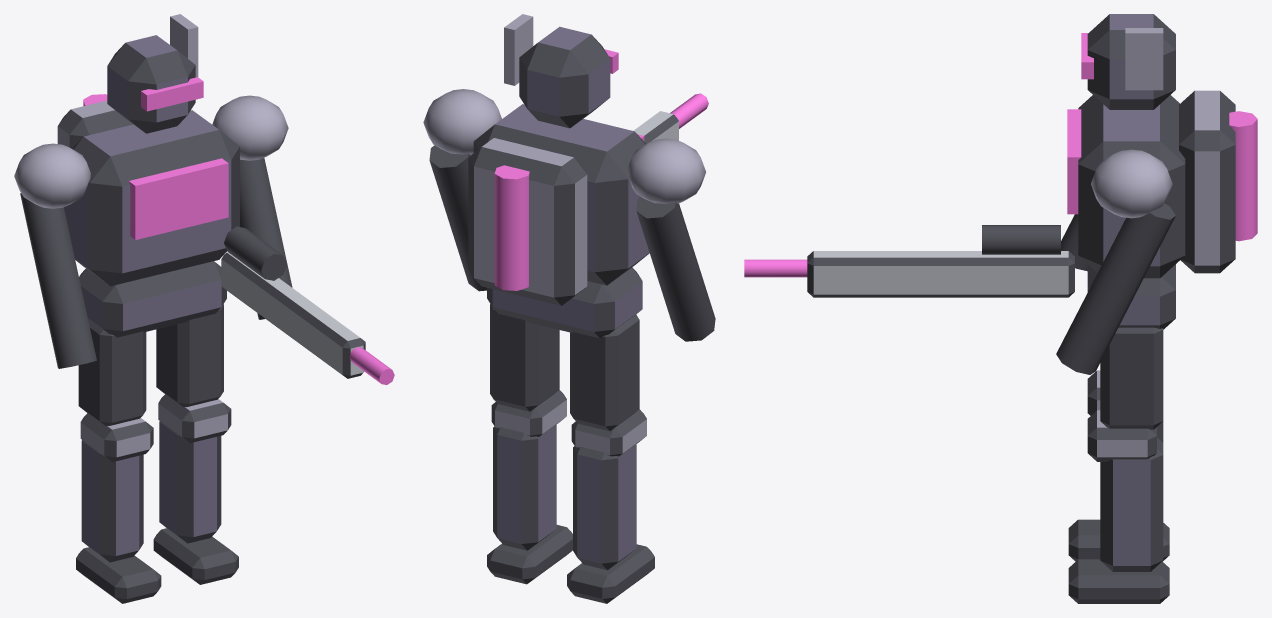
File: sh_shooter.glb
3 renders of one model, left to right at view 1: azimuth 30°, elevation 25°; view 2: azimuth 150°, elevation 25°; view 3: azimuth 270°, elevation 25°, orthographic. The views are drawn at different scales.
Parts seen in each view (by area): view 1: sh_shooter; view 2: sh_shooter; view 3: sh_shooter.
Boxes of the visible parts, x1,y1,x2,y2 form: sh_shooter: [14, 14, 394, 603]; sh_shooter: [423, 14, 715, 603]; sh_shooter: [744, 14, 1257, 603].
Bounding box in the file's own units: 1.02 × 1.98 × 1.63.
